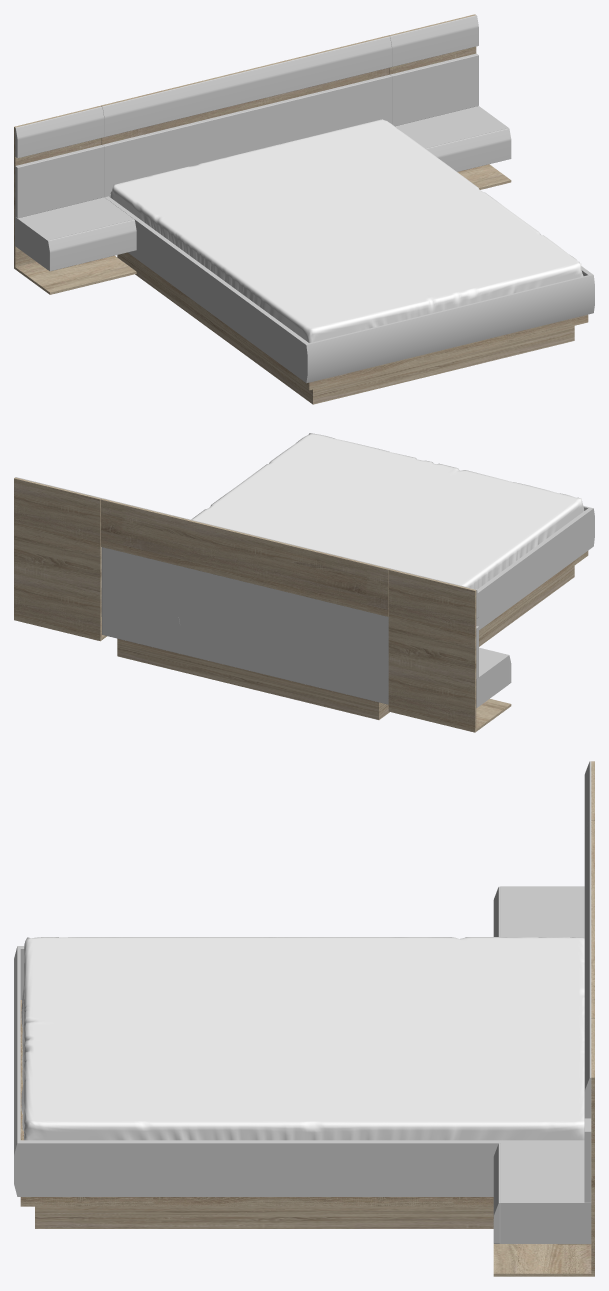
The model's file is bed.gltf.
3 views of the same model, one above another, from view 1: azimuth 30°, elevation 25°; view 2: azimuth 150°, elevation 25°; view 3: azimuth 270°, elevation 25° (orthographic). The views are drawn at different scales.
Visible parts, largest first — view 1: Box021, Box001, Box002, Box003, Box006, Box020, Box009, Box014, Box005, Box017, Box015, Box007 (+7 smaller); view 2: Box021, Box002, Box004, Box016, Box008, Box006, Box001, Box014, Box005, Box018; view 3: Box021, Box001, Box006, Box011, Box005, Box014, Box010, Box003, Box008, Box004, Box007, Box012 (+1 smaller).
Part boxes in pixels (<box>): Box021: <box>110,119,583,342</box>; Box001: <box>105,196,594,383</box>; Box002: <box>102,74,391,197</box>; Box003: <box>102,36,391,137</box>; Box006: <box>117,254,574,404</box>; Box020: <box>15,145,104,218</box>; Box009: <box>390,53,478,126</box>; Box014: <box>15,197,133,269</box>; Box005: <box>123,252,588,390</box>; Box017: <box>47,219,136,271</box>; Box015: <box>15,106,104,158</box>; Box007: <box>390,15,478,66</box>; Box021: <box>178,433,584,625</box>; Box002: <box>102,547,388,704</box>; Box004: <box>101,498,389,616</box>; Box016: <box>388,569,476,732</box>; Box008: <box>14,477,101,641</box>; Box006: <box>117,566,574,719</box>; Box001: <box>476,506,594,630</box>; Box014: <box>476,648,508,708</box>; Box005: <box>479,551,588,635</box>; Box018: <box>476,699,511,731</box>; Box021: <box>21,937,584,1140</box>; Box001: <box>14,946,584,1196</box>; Box006: <box>35,1206,493,1228</box>; Box011: <box>500,1143,591,1243</box>; Box005: <box>20,1000,493,1206</box>; Box014: <box>500,886,584,937</box>; Box010: <box>493,1244,591,1276</box>; Box003: <box>584,820,591,1030</box>; Box008: <box>591,1018,594,1276</box>; Box004: <box>591,821,594,1018</box>; Box007: <box>584,1018,591,1118</box>; Box012: <box>493,1143,500,1243</box>.
Size of the model in its own units: 2.66 by 0.861 by 2.06.
Materials: 3 (1 with a texture image).
